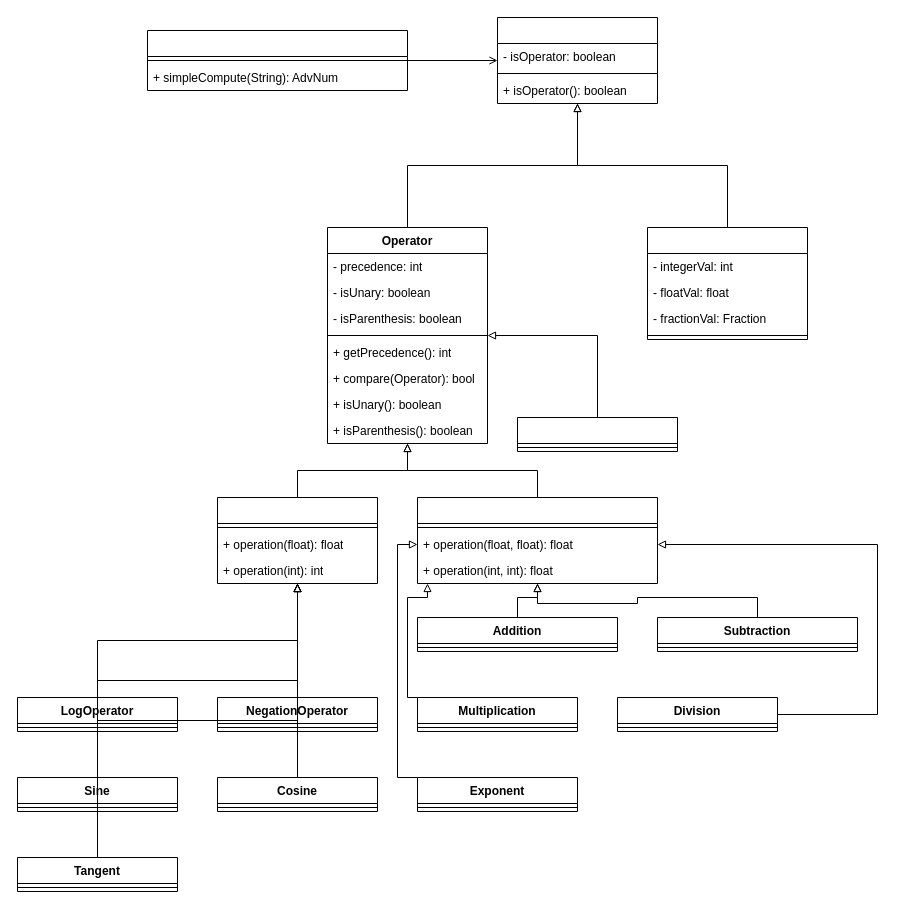
Some shapes in this 903 by 909 pixel diagram are drawn without their labels. The box of each missing label's shape, as (x1, y1, x2, y2) in pixels:
AdvancedNumber: (646, 226, 808, 340)
BinaryOperation: (416, 496, 658, 584)
Calculator: (146, 30, 408, 90)
Element: (496, 16, 658, 104)
Parenthesis: (516, 416, 678, 452)
UnaryOperation: (216, 496, 378, 584)
